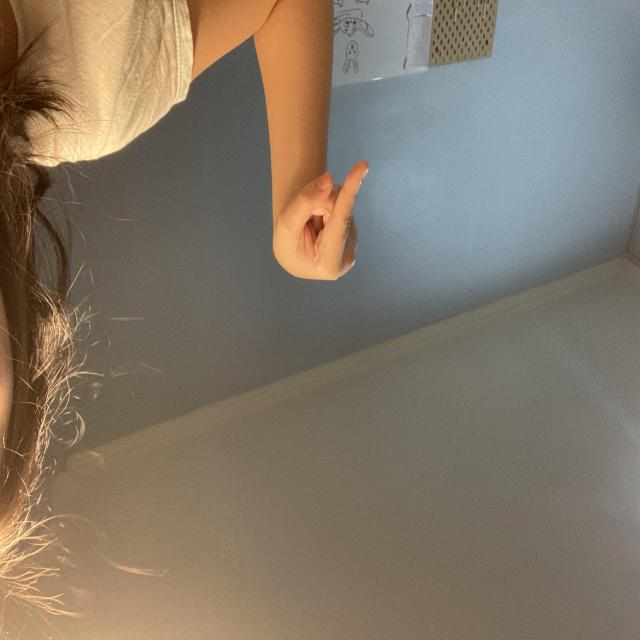Z: (271, 360, 367, 480)
